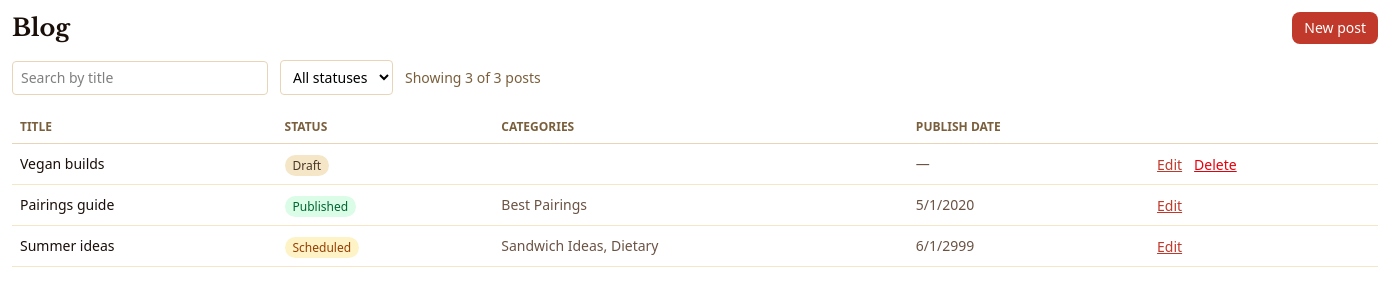
BlogManagementPage list › filters by status
Check: the text "Vegan builds" is shown, box [12, 144, 276, 184]
Select "Scheduled" in the dropdown named "Filter by status" at (336, 78), box [280, 60, 393, 95]
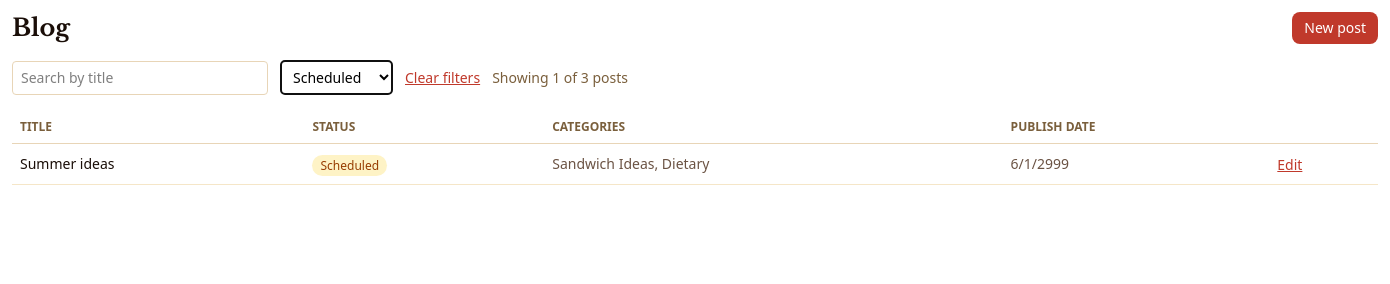
Check: the text "Summer ideas" is shown, box [12, 144, 304, 184]
Check: the text "Vegan builds" is gone
Check: the text "Pairings guide" is gone
